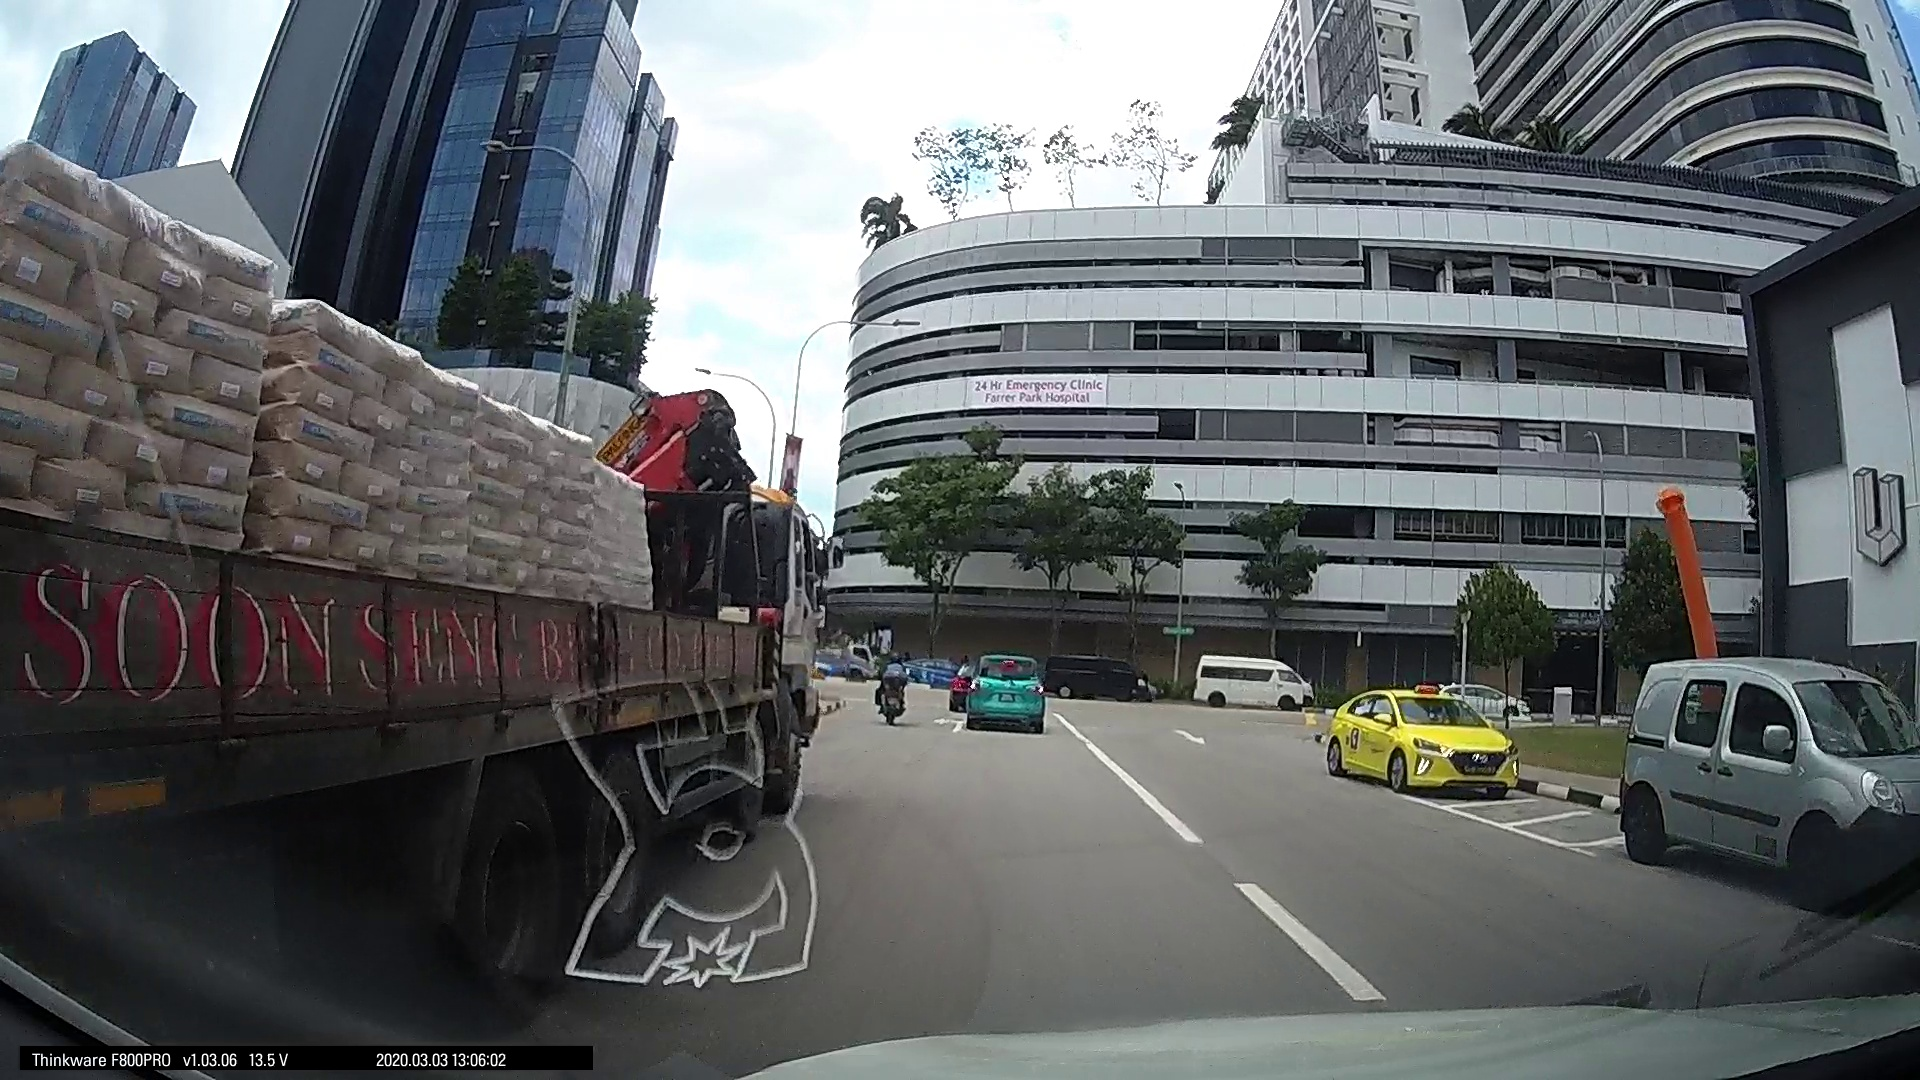Heavy Vehicle: (22, 261, 804, 978)
Light Vehicle: (1606, 649, 1911, 901), (1317, 678, 1524, 800), (1185, 651, 1308, 713), (959, 651, 1044, 731), (1044, 645, 1150, 702)
